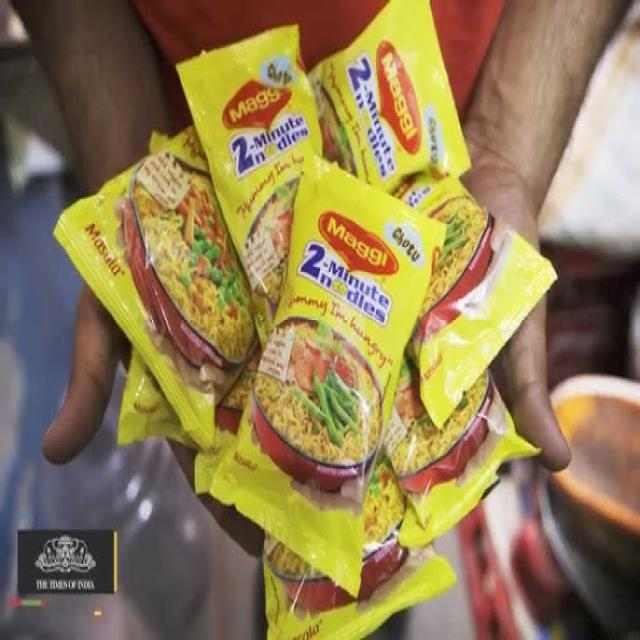maggi: (62, 20, 530, 600)
